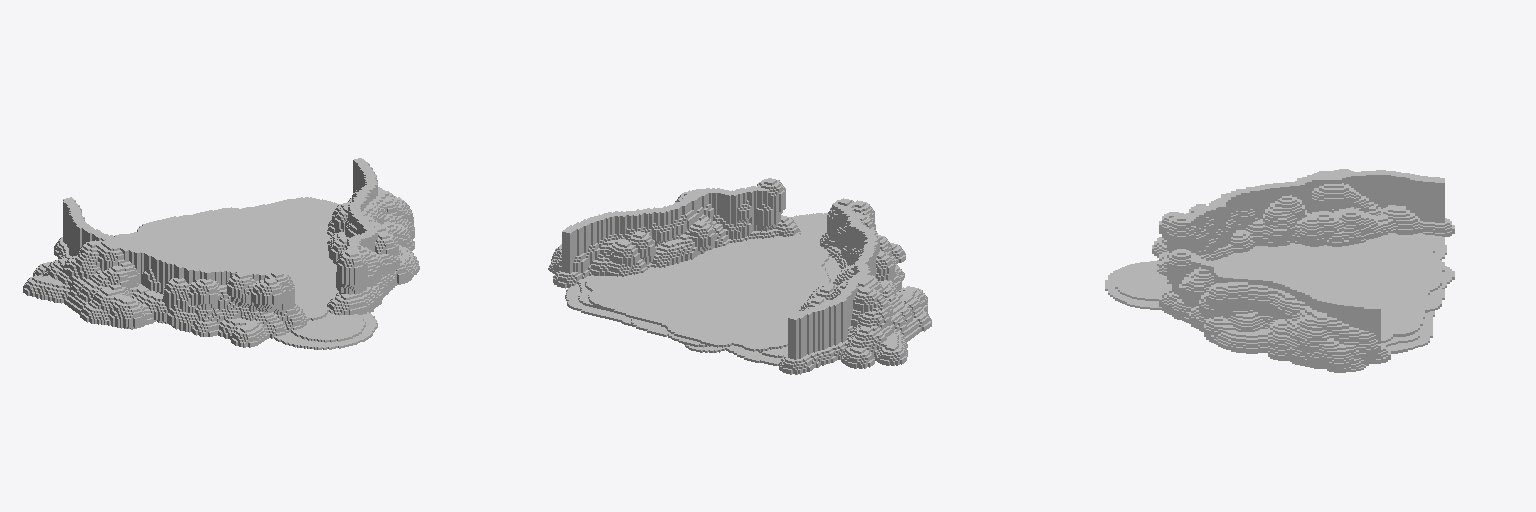
Rendered from base lava island.obj.
The picture shows the model from 3 angles: view 1: azimuth 30°, elevation 25°; view 2: azimuth 150°, elevation 25°; view 3: azimuth 270°, elevation 25°; orthographic projection.
Visible parts, largest first — view 1: object 1; view 2: object 1; view 3: object 1.
Boxes of the visible parts, x1,y1,x2,y2 form: object 1: [23, 158, 419, 349]; object 1: [548, 178, 931, 374]; object 1: [1105, 169, 1454, 372].
Size of the model in its own units: 17.2 by 2.5 by 14.2.